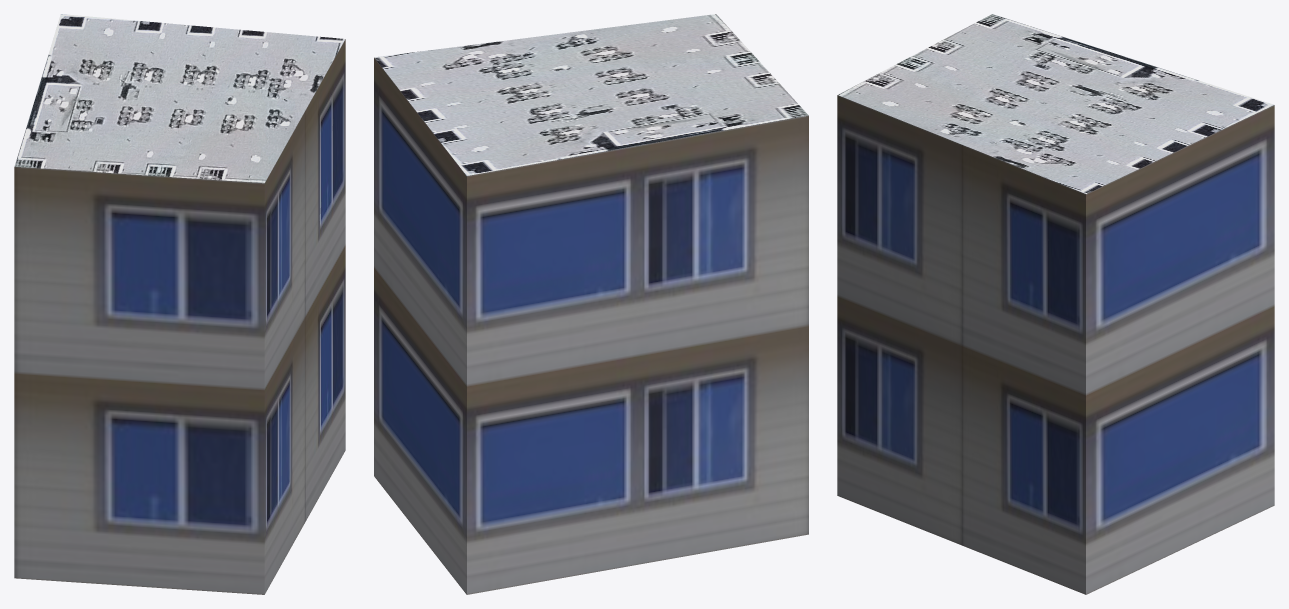
Rendered from ResTex__1326.fbx.
3 renders of one model, left to right at view 1: azimuth 30°, elevation 25°; view 2: azimuth 150°, elevation 25°; view 3: azimuth 270°, elevation 25°, orthographic. The views are drawn at different scales.
Parts seen in each view (by area): view 1: CityEngineMaterial_23_m, CityEngineMaterial_8_m; view 2: CityEngineMaterial_23_m, CityEngineMaterial_8_m; view 3: CityEngineMaterial_23_m, CityEngineMaterial_8_m.
Part boxes in pixels (bbox=[...]): CityEngineMaterial_23_m: bbox=[14, 39, 345, 594]; CityEngineMaterial_8_m: bbox=[14, 14, 345, 183]; CityEngineMaterial_23_m: bbox=[374, 57, 808, 594]; CityEngineMaterial_8_m: bbox=[374, 14, 808, 175]; CityEngineMaterial_23_m: bbox=[837, 95, 1274, 594]; CityEngineMaterial_8_m: bbox=[838, 14, 1273, 193].
Bounding box in the file's own units: 5.78 × 6 × 5.93.
Materials: 2 (2 with a texture image).
